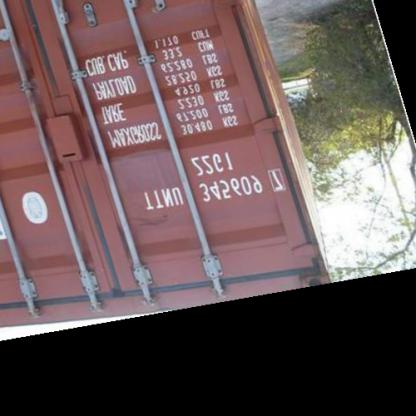Damage: (119, 204, 172, 250), (105, 140, 169, 176)
